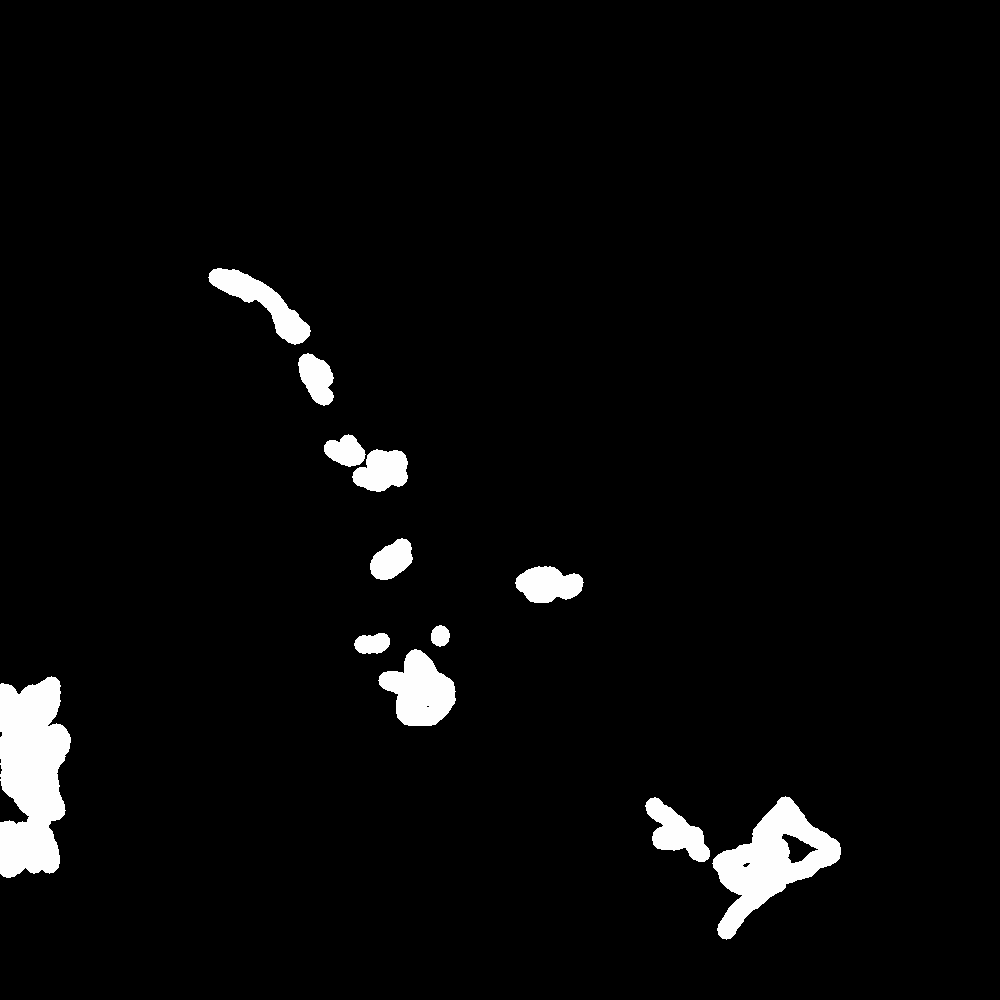illegal: (654, 794, 837, 929), (356, 627, 522, 733), (1, 679, 82, 882), (917, 420, 1000, 478), (518, 569, 577, 598), (366, 543, 408, 581), (299, 364, 340, 389)
